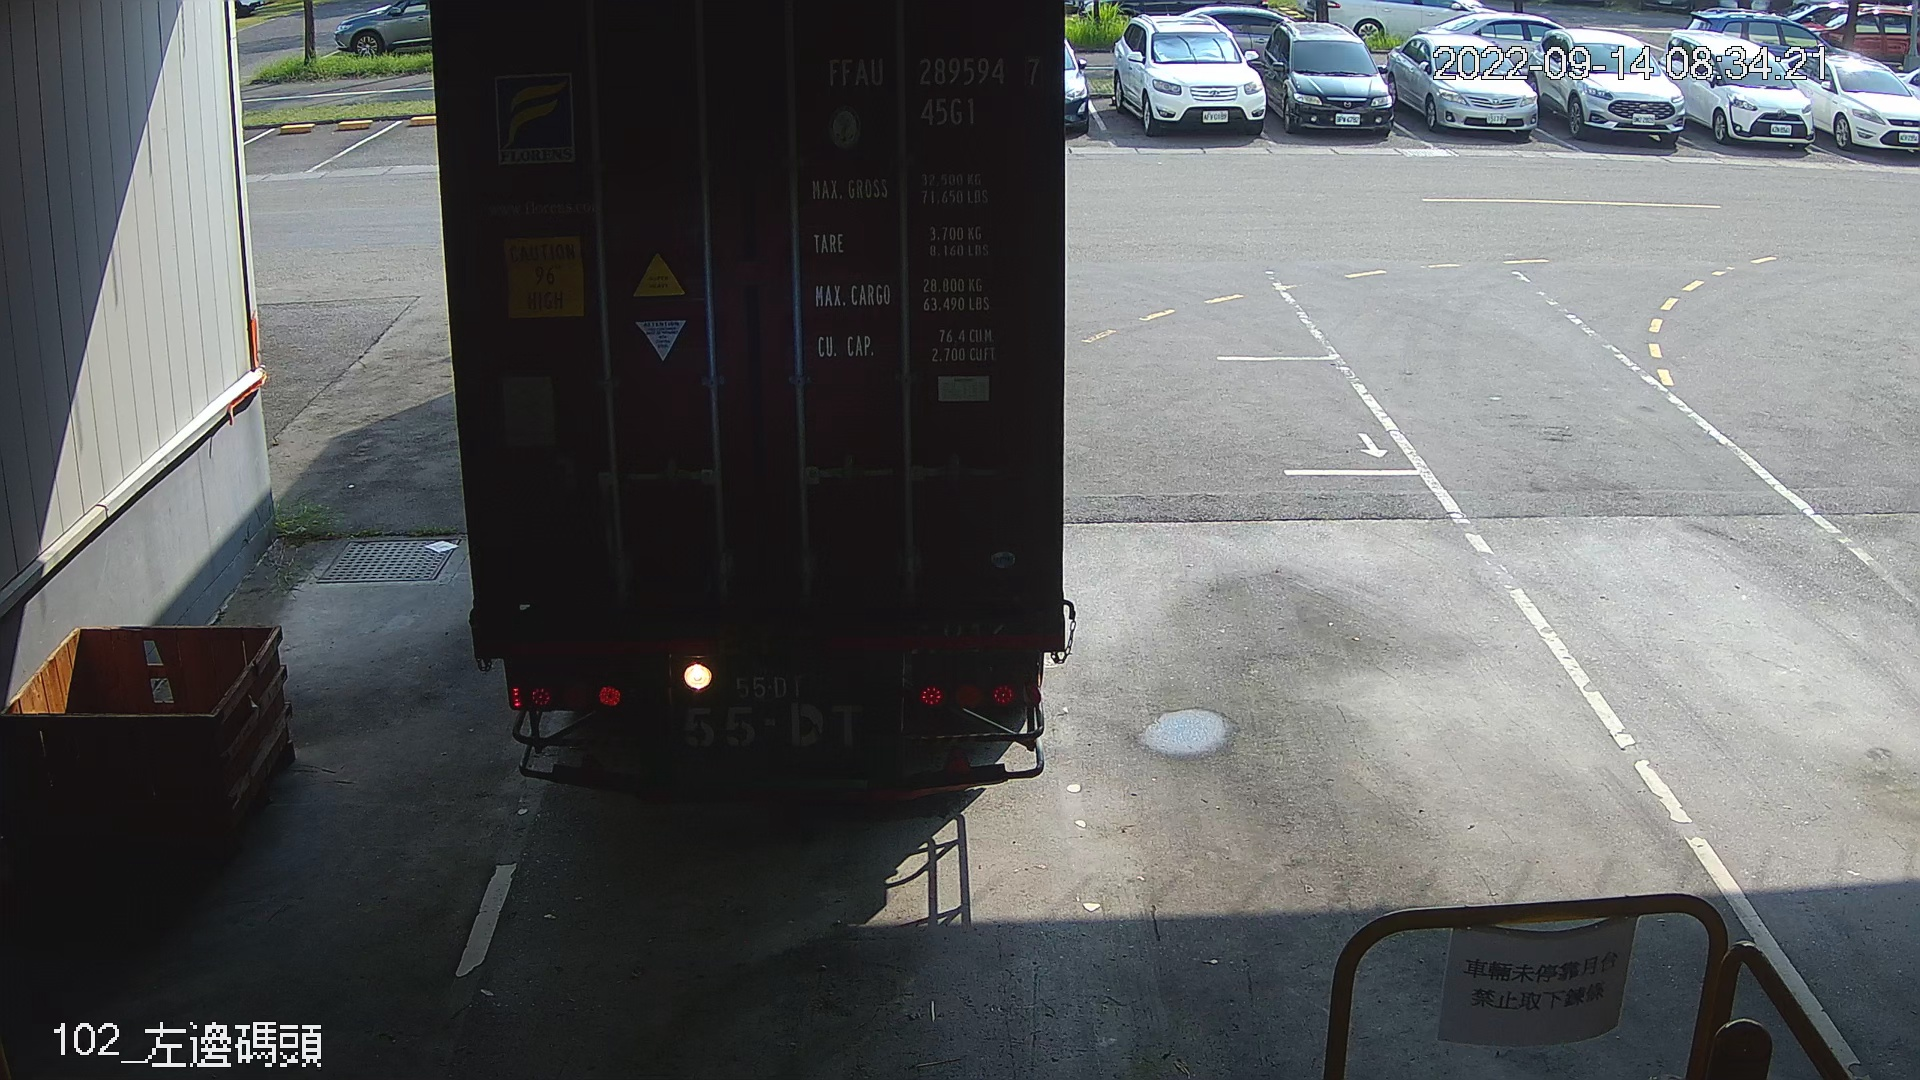container: (819, 47, 1051, 135)
